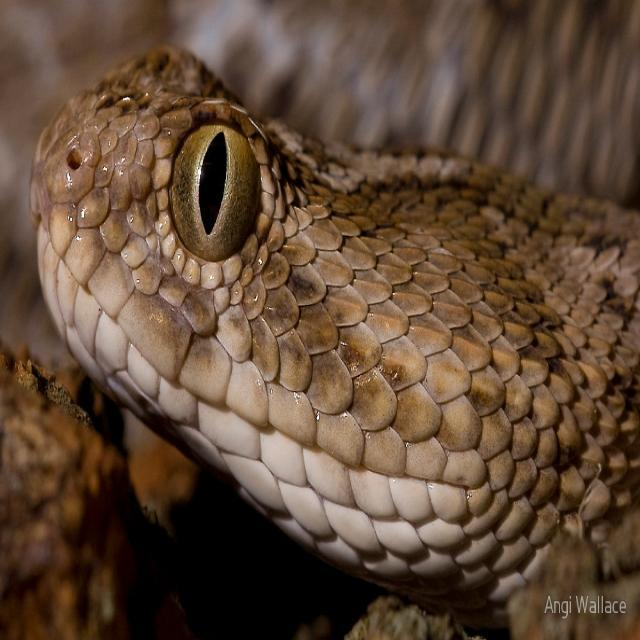Snake: (27, 40, 638, 625)
